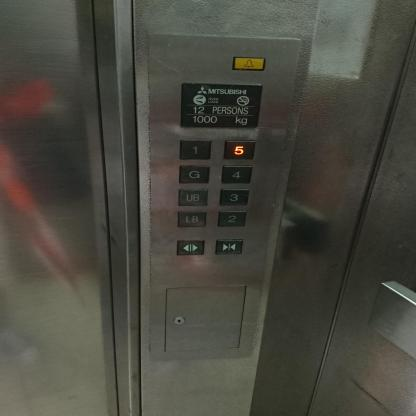1: (178, 139, 212, 161)
2: (215, 210, 248, 228)
3: (218, 188, 250, 206)
4: (219, 164, 254, 184)
5: (222, 138, 257, 160)
G: (177, 164, 211, 185)
LB: (176, 210, 208, 229)
UB: (178, 188, 210, 207)
alarm: (232, 57, 265, 70)
close: (214, 238, 244, 256)
keyhole: (173, 317, 185, 324)
open: (176, 238, 206, 256)
